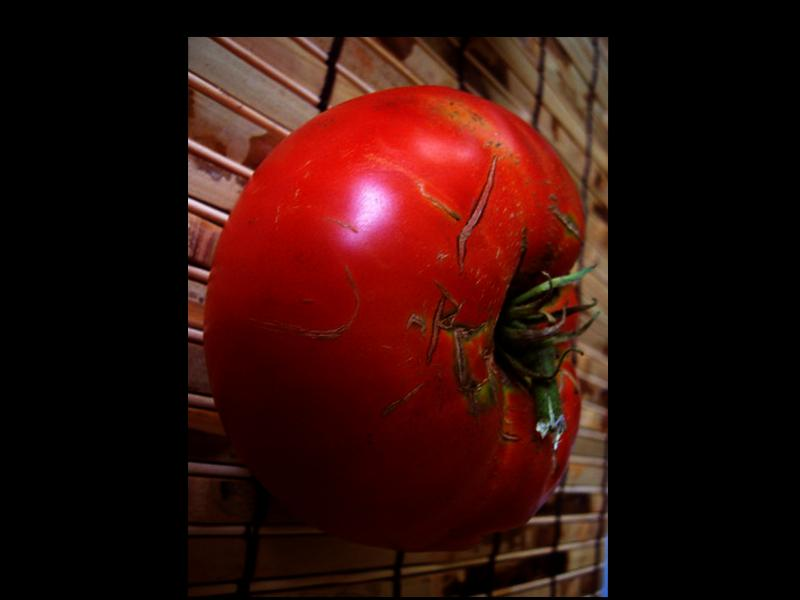Tomato: (209, 86, 585, 551)
